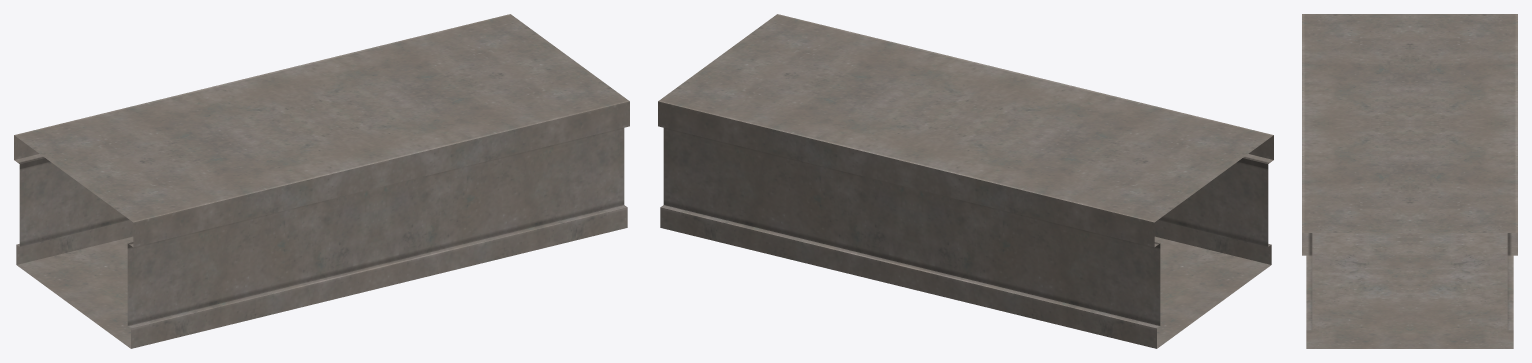
File: sb_obj_outdoor009_AncientTemple_WallTopParts02B.fbx
3 renders of one model, left to right at view 1: azimuth 30°, elevation 25°; view 2: azimuth 150°, elevation 25°; view 3: azimuth 270°, elevation 25°, orthographic. The views are drawn at different scales.
Visible parts, largest first — view 1: sb_obj_outdoor009_AncientTemple_WallTopParts02B; view 2: sb_obj_outdoor009_AncientTemple_WallTopParts02B; view 3: sb_obj_outdoor009_AncientTemple_WallTopParts02B.
Part boxes in pixels (<box>): sb_obj_outdoor009_AncientTemple_WallTopParts02B: <box>14,14,629,348</box>; sb_obj_outdoor009_AncientTemple_WallTopParts02B: <box>658,14,1273,348</box>; sb_obj_outdoor009_AncientTemple_WallTopParts02B: <box>1302,14,1517,348</box>.
Bounding box in the file's own units: 4 × 0.987 × 1.67.
